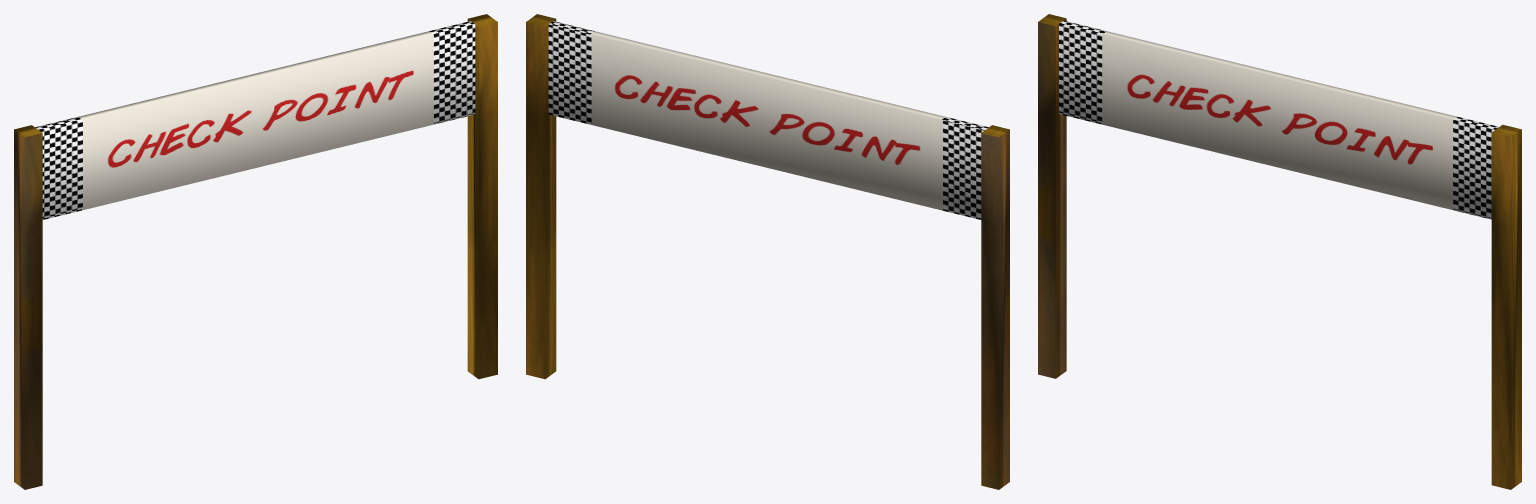
The model's file is checkpoint 1.fbx.
The picture shows the model from 3 angles, left to right: view 1: azimuth 30°, elevation 25°; view 2: azimuth 150°, elevation 25°; view 3: azimuth 330°, elevation 25°; orthographic projection.
Parts seen in each view (by area): view 1: pCube2; view 2: pCube2; view 3: pCube2.
Part boxes in pixels (x1=…): pCube2: x1=14, y1=14, x2=497, y2=489; pCube2: x1=526, y1=14, x2=1009, y2=489; pCube2: x1=1038, y1=14, x2=1521, y2=489.
Size of the model in its own units: 265 by 189 by 10.66.
